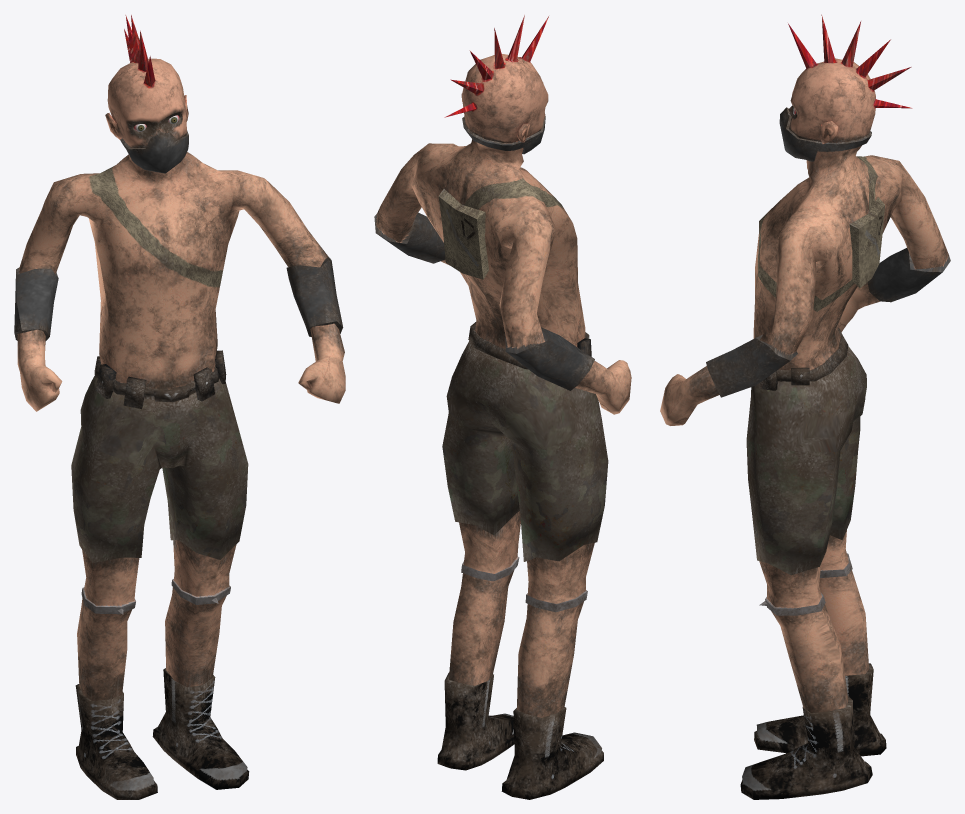
Rendered from Anim_ataque_d1_npc2.0014.obj.
3 renders of one model, left to right at view 1: azimuth 30°, elevation 25°; view 2: azimuth 150°, elevation 25°; view 3: azimuth 270°, elevation 25°, orthographic. The views are drawn at different scales.
Visible parts, largest first — view 1: polySurface1; view 2: polySurface1; view 3: polySurface1.
Part boxes in pixels (x1,y1,x2,y2): polySurface1: [14, 15, 345, 799]; polySurface1: [374, 15, 631, 799]; polySurface1: [660, 14, 950, 799].
Size of the model in its own units: 3.91 by 10.13 by 3.56.
